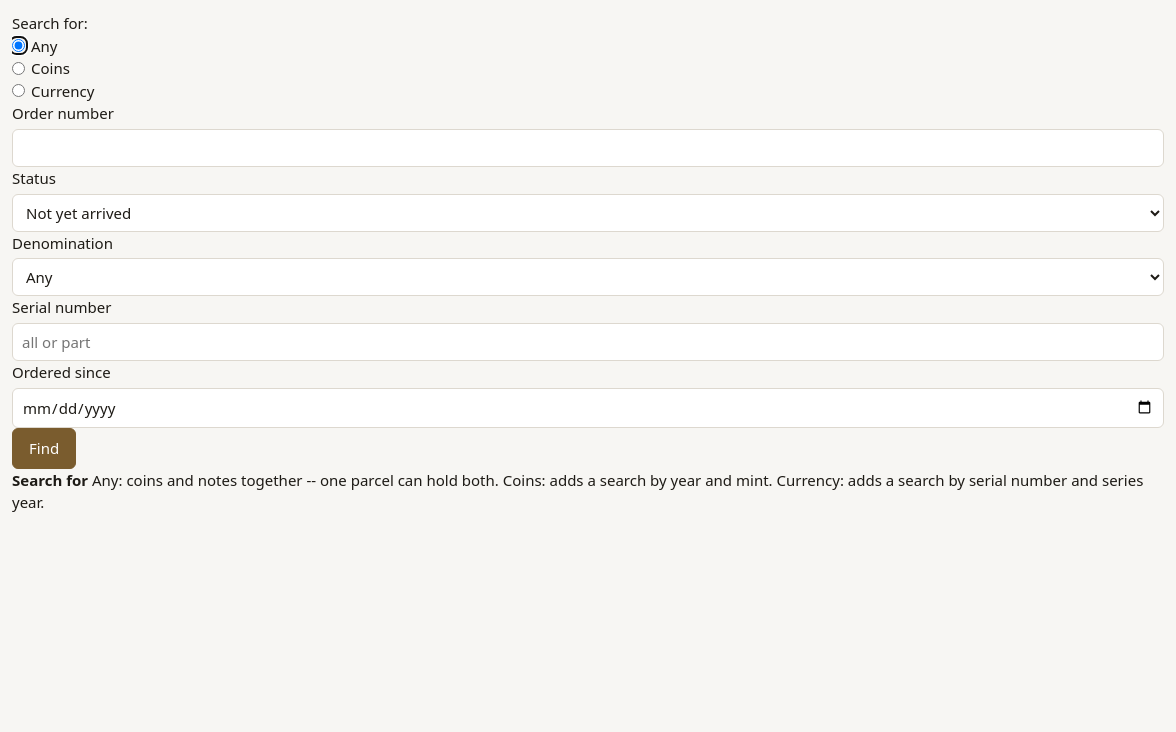
Test: ItemFinder › explains the kind radio buttons when one is chosen
What coordinates should you click on to do the following:
click the field labelled "Order number"
I would click on:
 (588, 148)
Its box is top-left (12, 128), bottom-right (1164, 167).
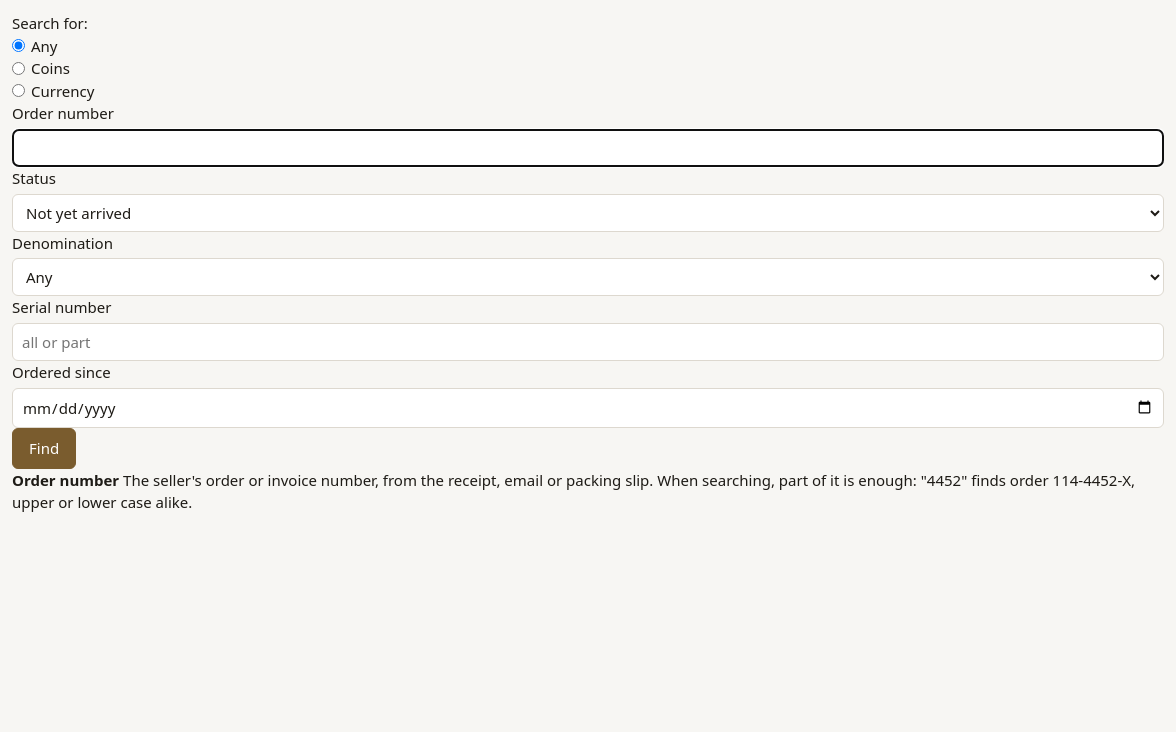
What coordinates should you click on to do the following:
click the radio button labelled "Currency"
I would click on:
 (18, 91)
Its box is top-left (12, 84), bottom-right (25, 97).
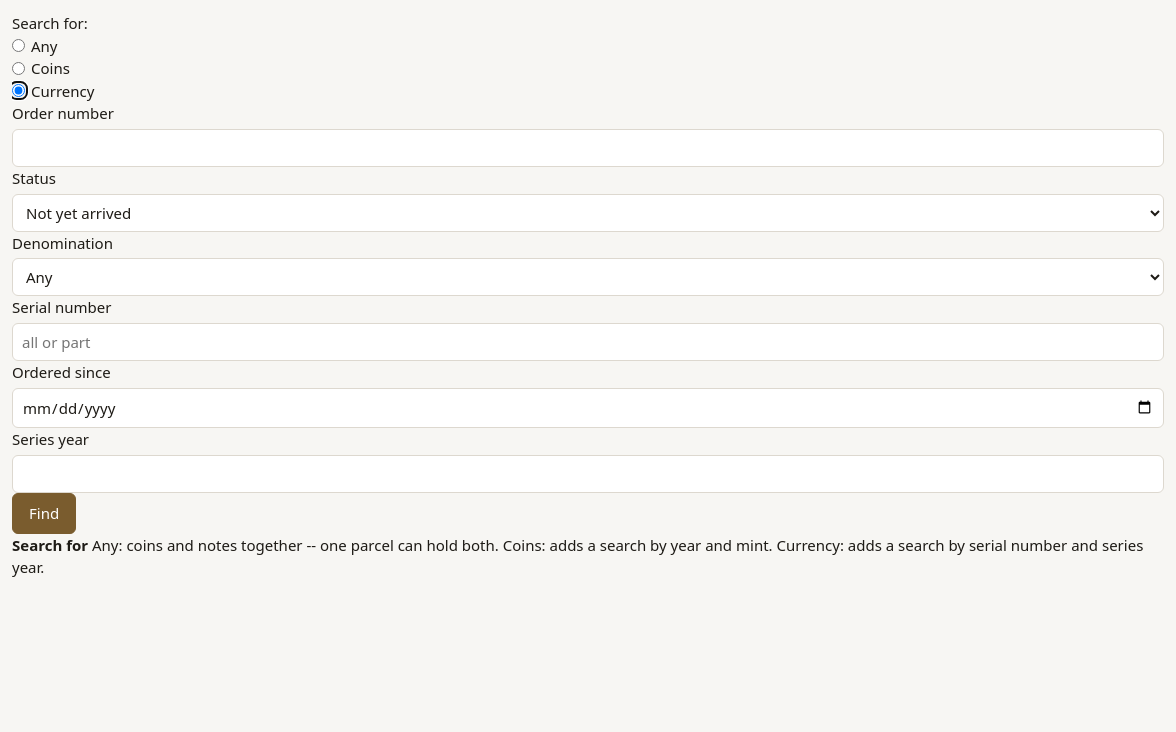
Now the text "one parcel can hold both" is shown, box top-left (12, 534), bottom-right (1143, 577)
Now the text "part of it is enough" is gone
